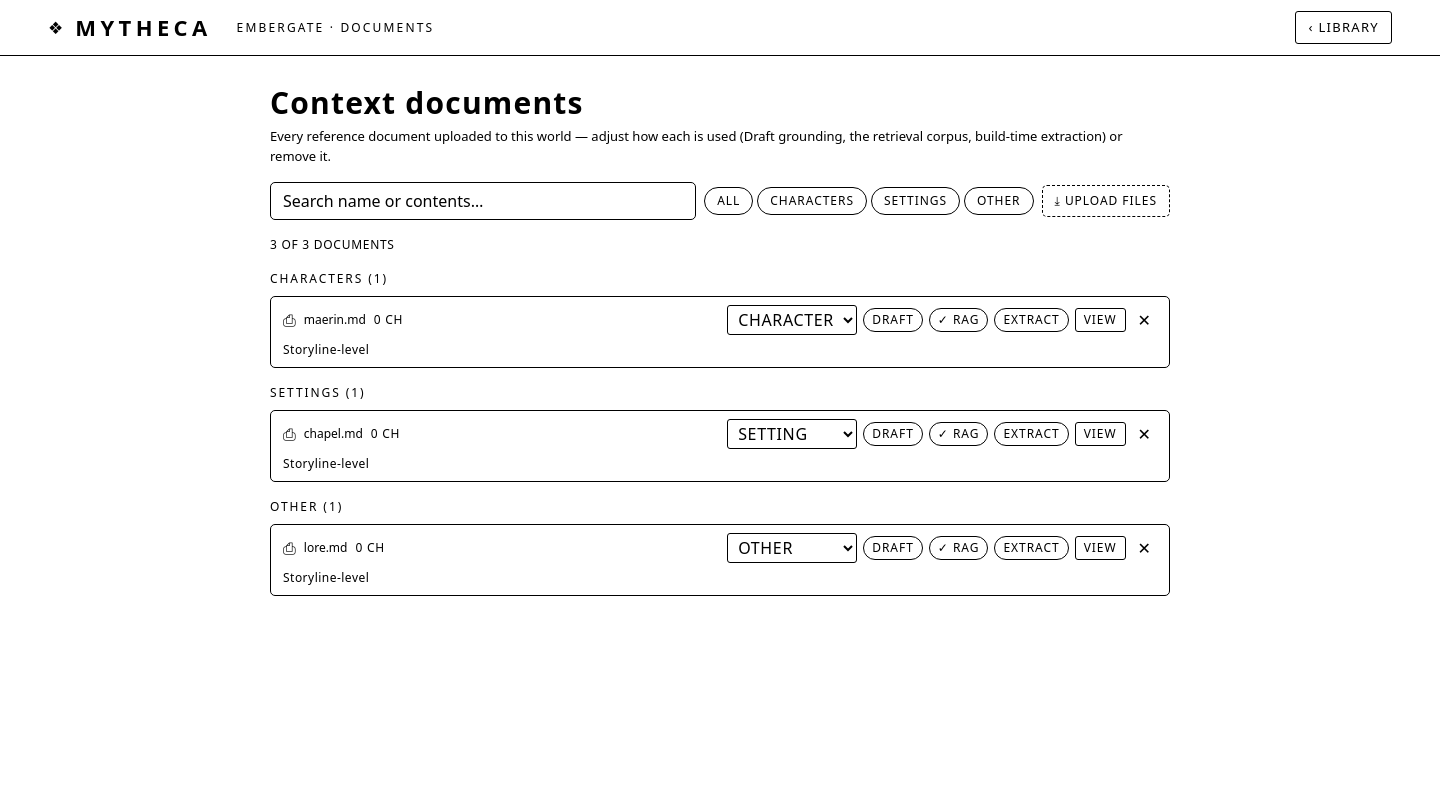
Scenario: DocumentsView › filters by search query
The width and height of the screenshot is (1440, 810).
Expected: the text "maerin.md" is shown, [304,311,366,329]
In the search field named "search documents": (483, 201) [270,182,696,220], type "chapel"
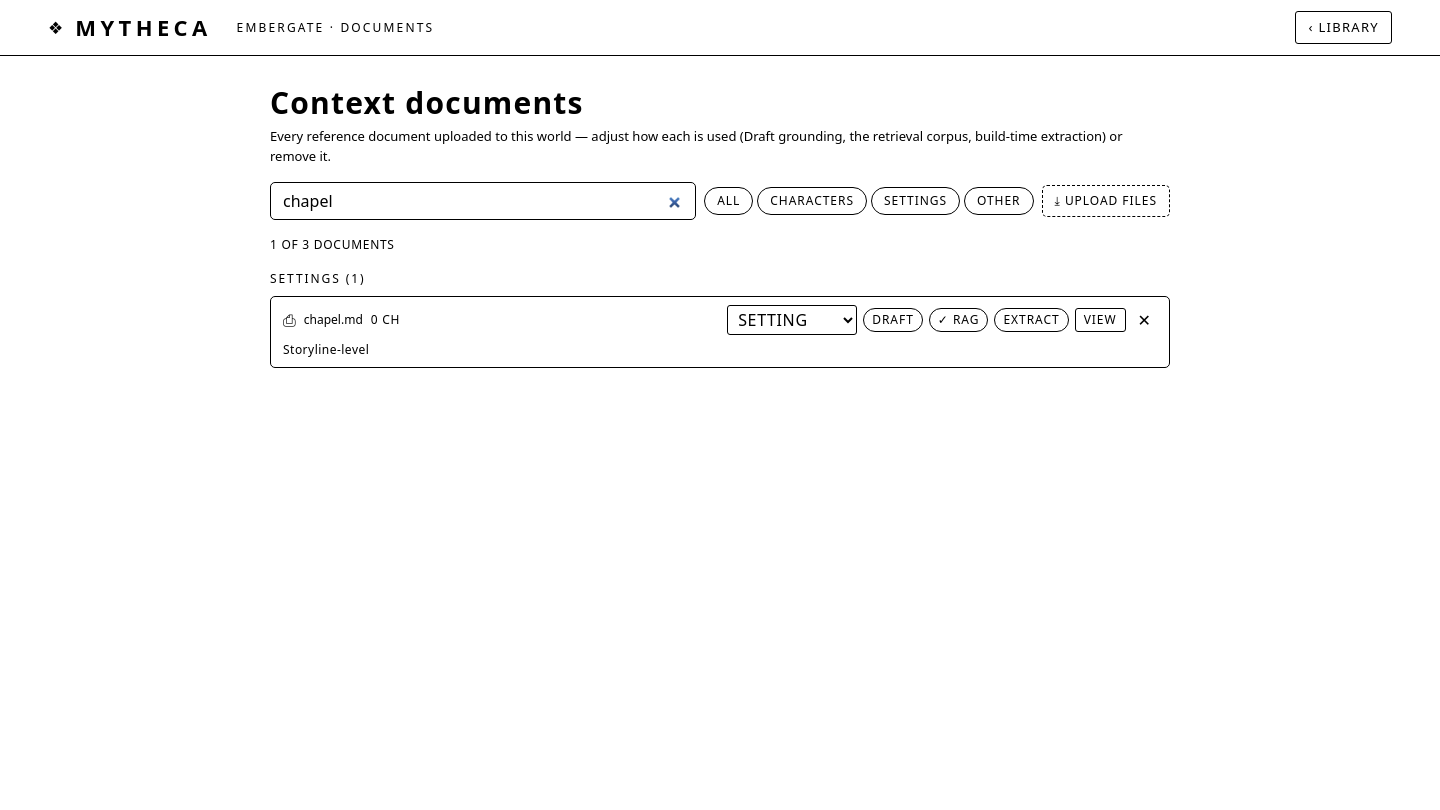
Expected: the text "chapel.md" is shown, [304,311,363,329]
Now the text "maerin.md" is gone
